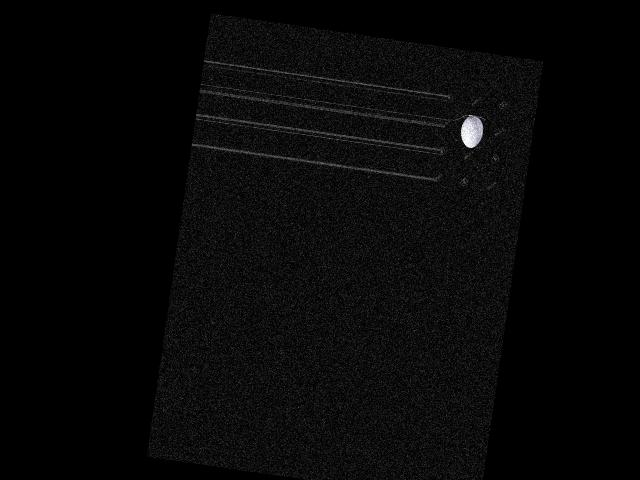egg: (458, 114, 484, 149)
